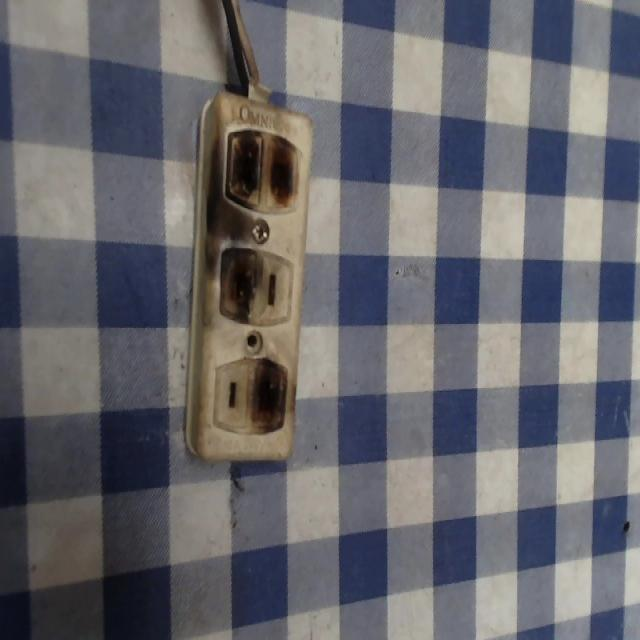-: (220, 124, 304, 213), (215, 241, 261, 323), (247, 353, 290, 435)
